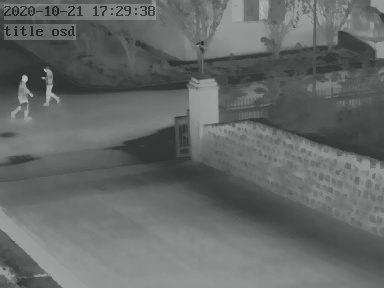person: (13, 73, 32, 121), (42, 65, 58, 106)
